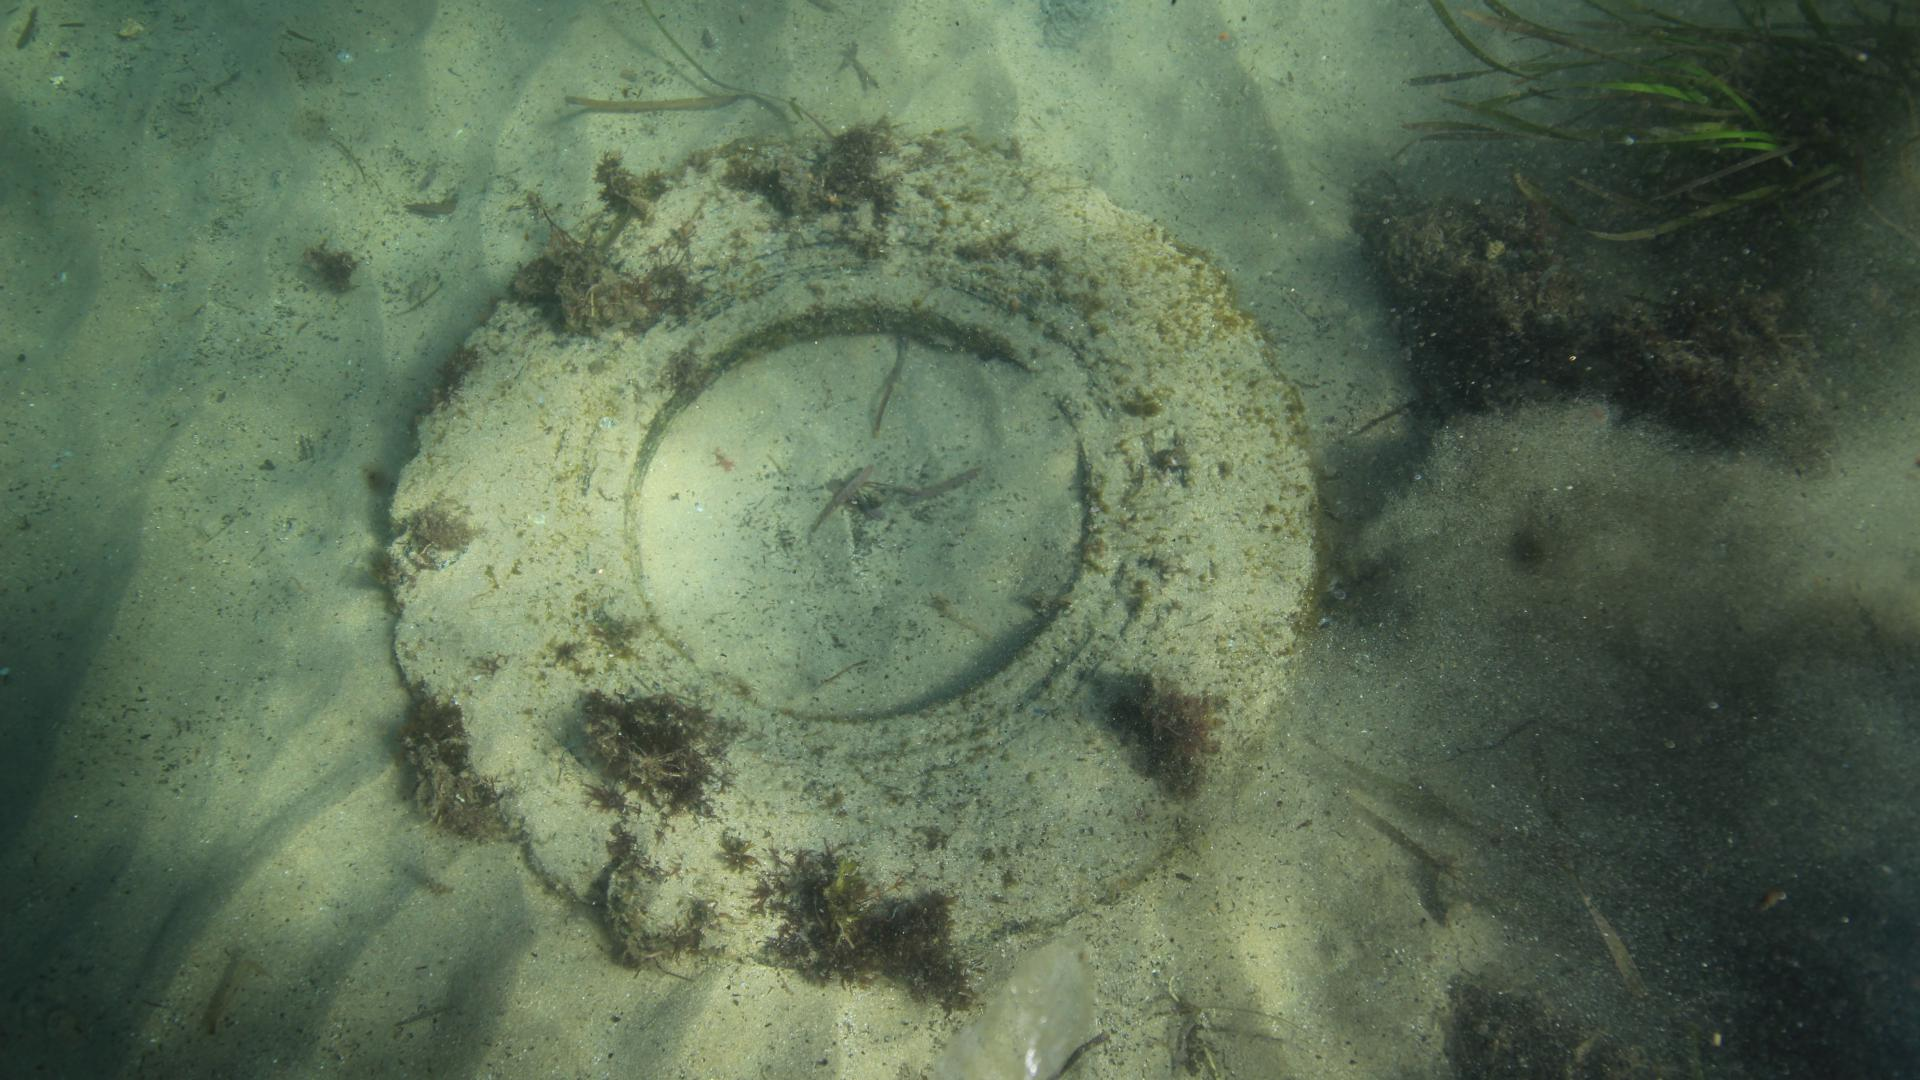tire: (386, 135, 1317, 965)
